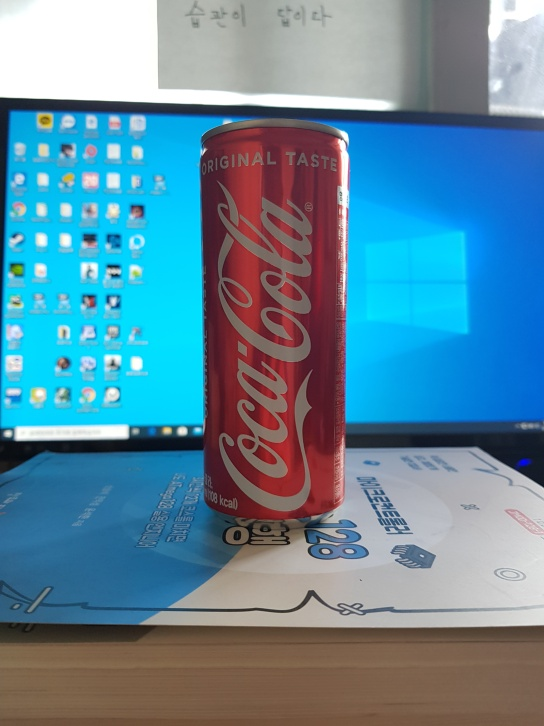Can: (191, 119, 350, 530)
